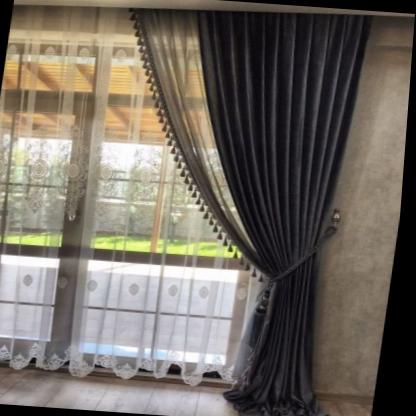Curtains: (0, 0, 374, 416)
Wooden floor: (0, 365, 248, 416)
